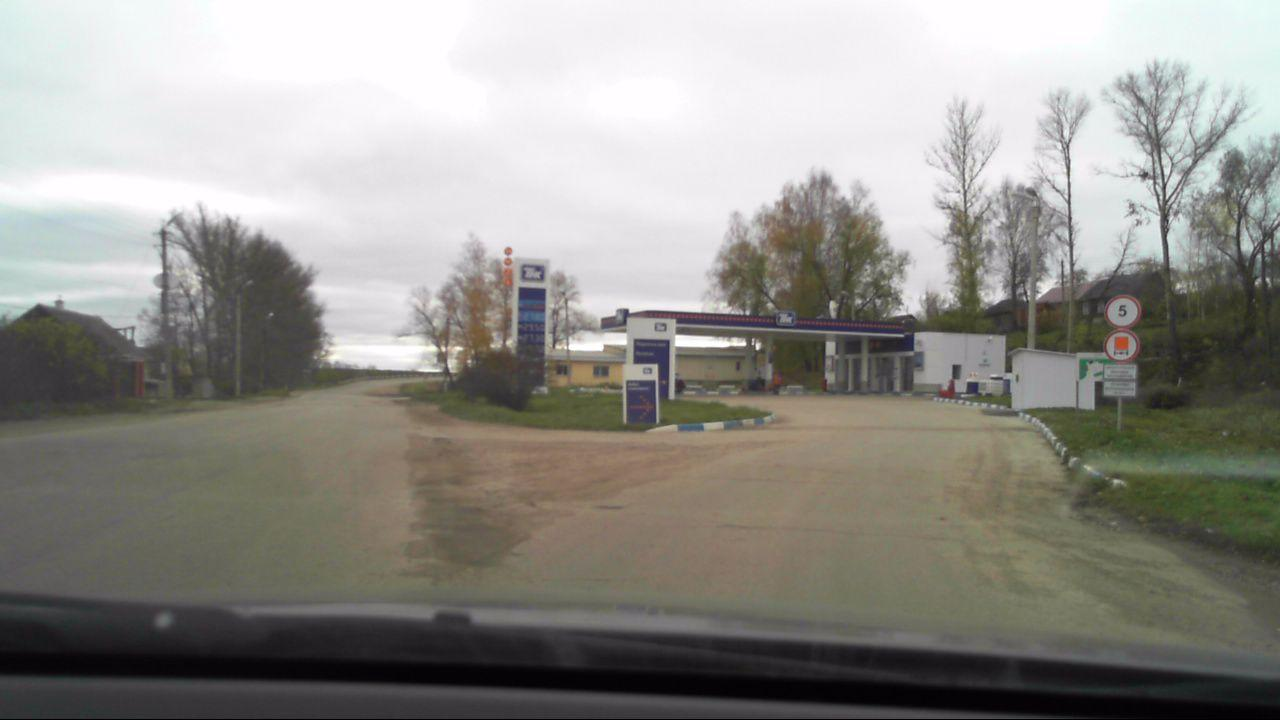3_24: (1104, 292, 1141, 328)
3_32: (1105, 331, 1139, 362)
